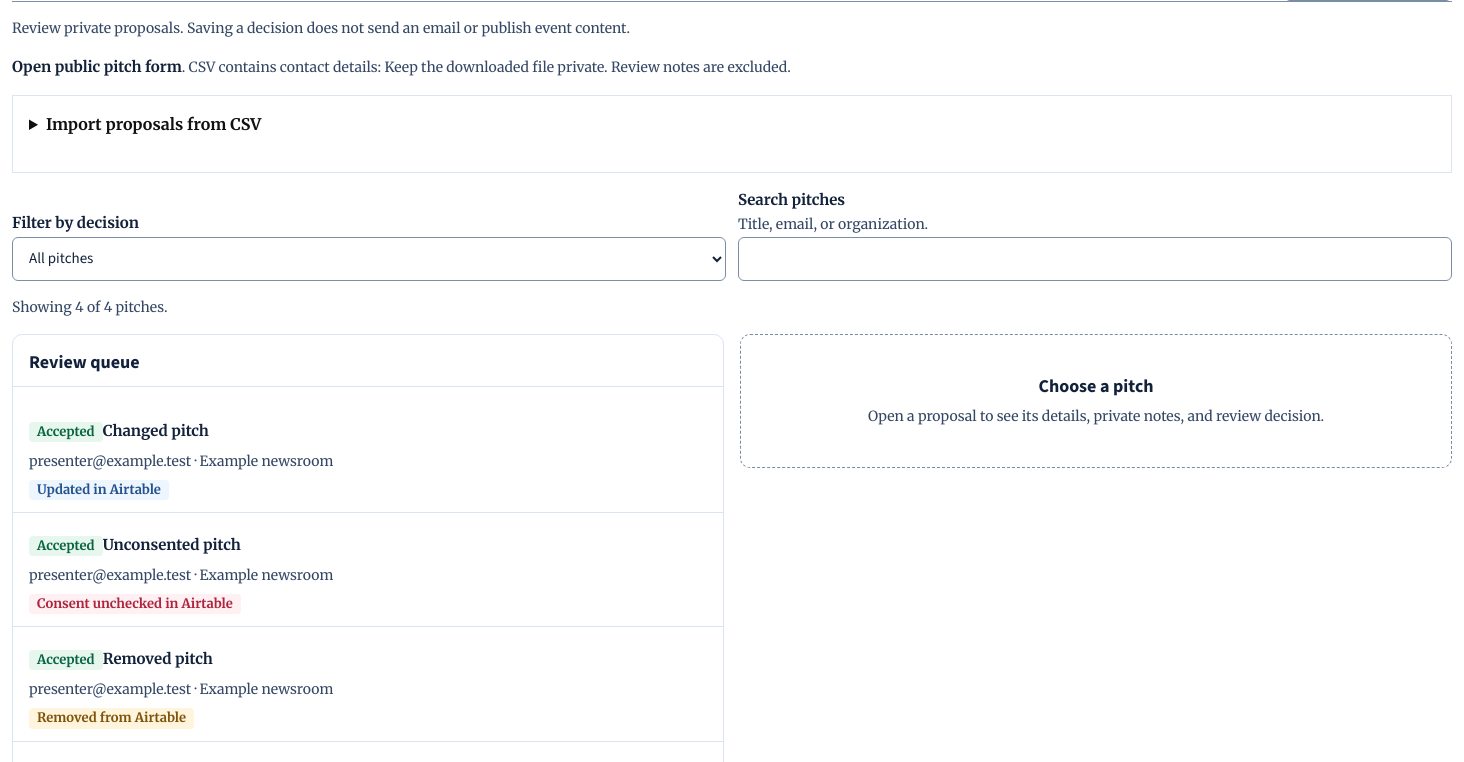
Test: Airtable markers in the review queue › marks a changed, a removed and an unconsented record in words, in the list and in the review
Check: the text "Updated in Airtable" is shown, box [29,480,169,500]
Check: the text "Removed from Airtable" is shown, box [29,708,194,729]
Step 1. Click the button "Changed pitch" → coordinates (156, 431), box [103,419,209,443]
(page scrolled)
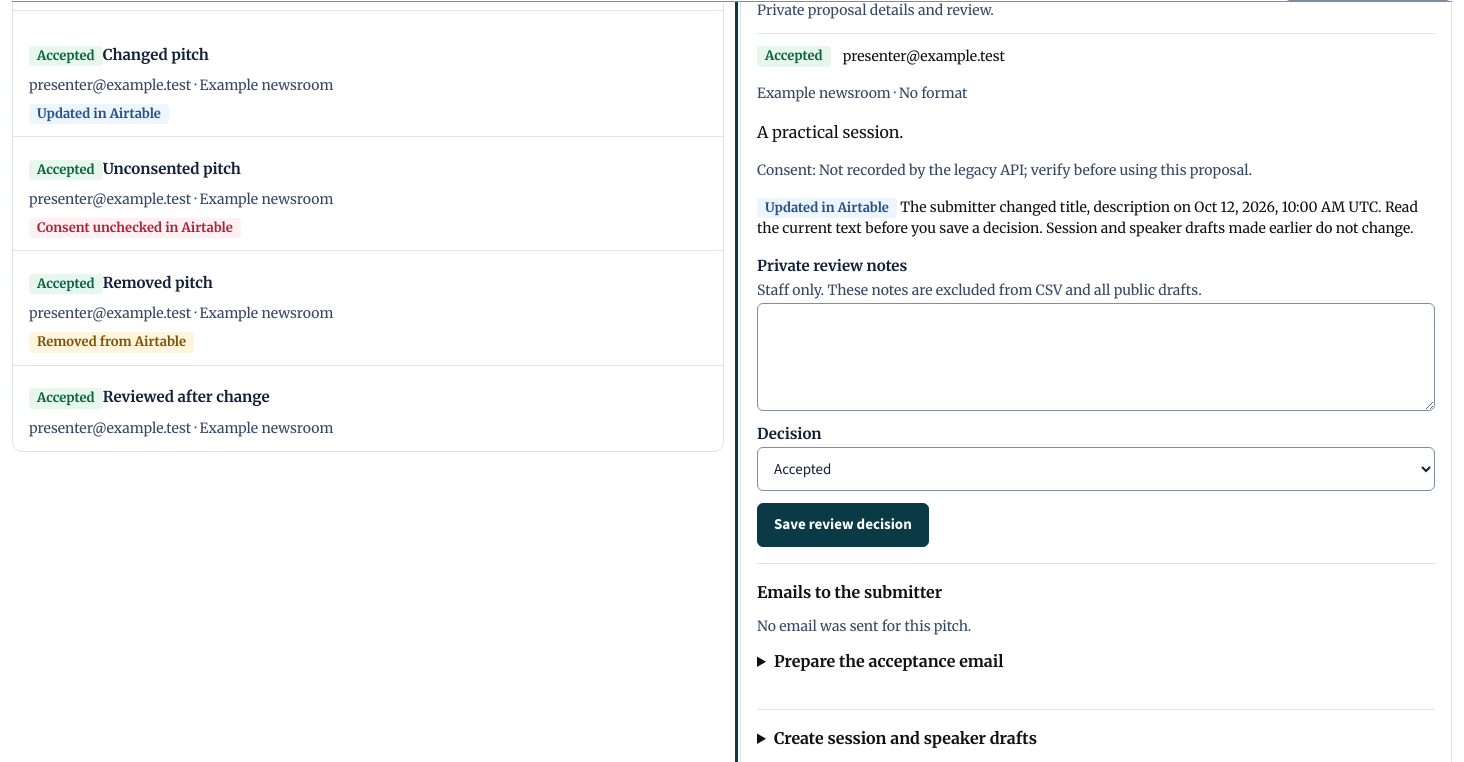
Check: the list named "Airtable changes" shows "The submitter changed title, description on Oct 12, 2026, 10:00 AM UTC.", box [757,197,1435,239]
